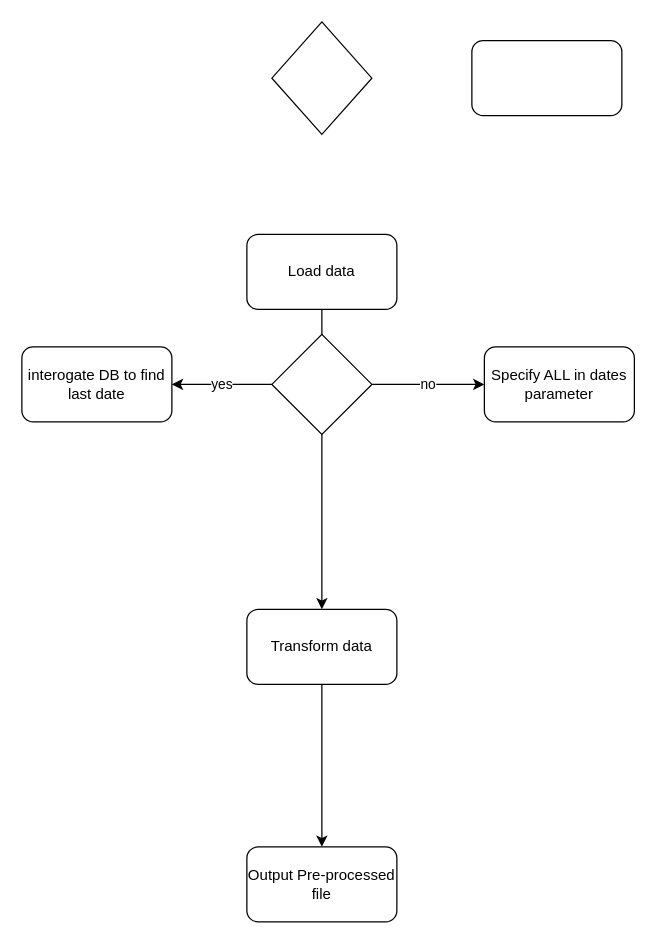
This 656x944 diagram has some shape labels left out. Each missing label, with the centre of its shape:
"DB exists?" belongs at point 321,383.
"Put into input param folder" belongs at point 546,77.
"tickerfile exists?" belongs at point 321,77.
